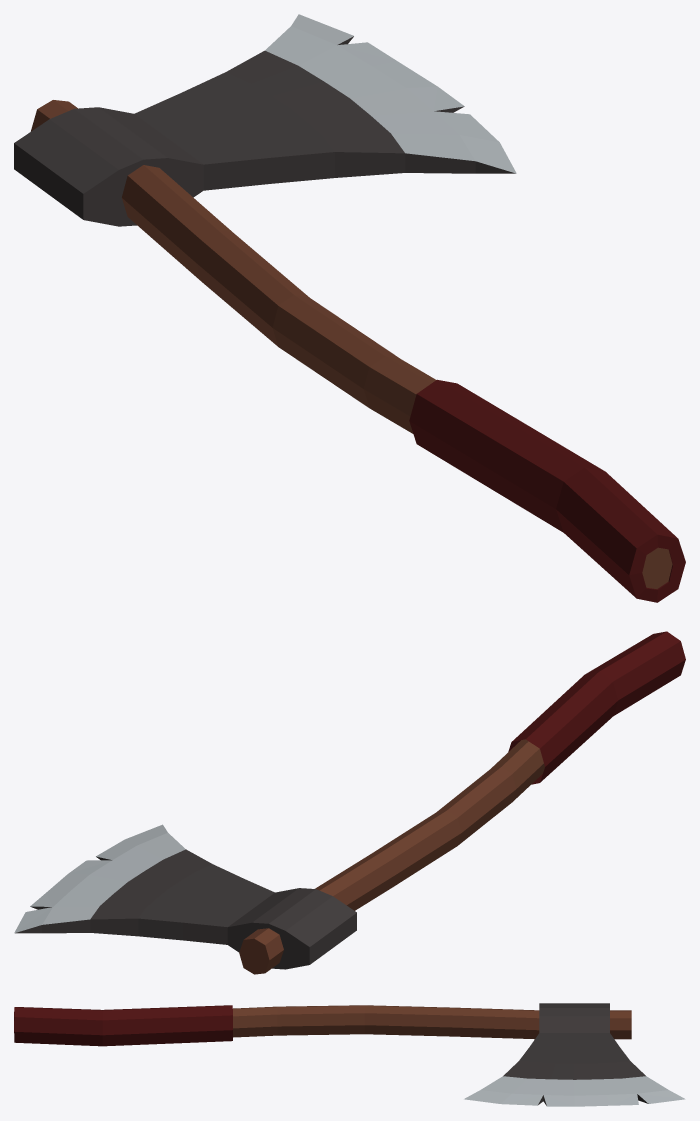
Rendered from baltafbx (1).fbx.
The picture shows the model from 3 angles, top to bottom: view 1: azimuth 30°, elevation 25°; view 2: azimuth 150°, elevation 25°; view 3: azimuth 270°, elevation 25°; orthographic projection. The views are drawn at different scales.
Parts seen in each view (by area): view 1: Plane, Plane.001; view 2: Plane, Plane.001; view 3: Plane, Plane.001.
Boxes of the visible parts, x1,y1,x2,y2 form: Plane: (14,14,672,588); Plane.001: (409,379,685,602); Plane: (14,739,544,974); Plane.001: (508,631,685,784); Plane: (233,1003,685,1106); Plane.001: (14,1005,232,1046).
Size of the model in its own units: 648 by 110 by 1897.
